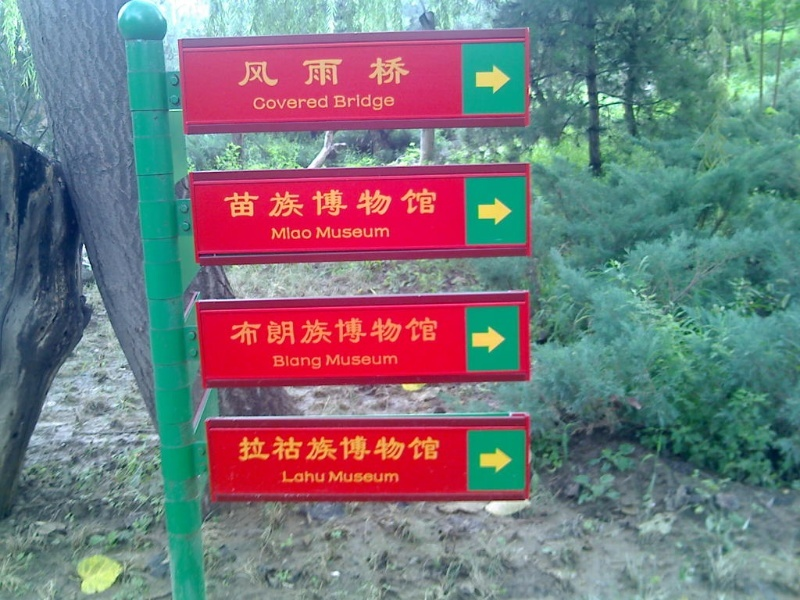text: (241, 54, 256, 88), (257, 54, 272, 88), (273, 54, 288, 88), (289, 54, 304, 88), (305, 54, 320, 88), (321, 54, 336, 88), (337, 54, 352, 88), (353, 54, 368, 88), (369, 54, 384, 88), (385, 54, 400, 88), (225, 188, 240, 219), (241, 188, 256, 219), (257, 188, 272, 219), (273, 188, 288, 219), (289, 188, 304, 219), (305, 188, 320, 219), (321, 188, 336, 219), (337, 188, 352, 219), (353, 188, 368, 219), (369, 188, 384, 219), (385, 188, 400, 219), (401, 188, 416, 219), (417, 188, 432, 219), (241, 434, 256, 464), (257, 434, 272, 464), (273, 434, 288, 464), (289, 434, 304, 464), (305, 434, 320, 464), (321, 434, 336, 464), (337, 434, 352, 464), (353, 434, 368, 464), (369, 434, 384, 464), (385, 434, 400, 464), (401, 434, 416, 464), (417, 434, 432, 464), (241, 318, 256, 347), (257, 318, 272, 347), (273, 318, 288, 347), (289, 318, 304, 347), (305, 318, 320, 347), (321, 318, 336, 347), (337, 318, 352, 347), (353, 318, 368, 347), (369, 318, 384, 347), (385, 318, 400, 347), (401, 318, 416, 347), (417, 318, 432, 347), (226, 318, 240, 347), (401, 54, 412, 88), (433, 434, 444, 464), (433, 318, 443, 347), (257, 93, 272, 112), (273, 93, 288, 112), (289, 93, 304, 112), (305, 93, 320, 112), (273, 226, 288, 244), (289, 226, 304, 244), (273, 354, 288, 372), (289, 354, 304, 372), (305, 354, 320, 372), (321, 225, 336, 243), (337, 225, 352, 243), (353, 225, 368, 243), (369, 225, 384, 243), (337, 94, 352, 111), (353, 94, 368, 111), (369, 94, 384, 111), (289, 468, 304, 484), (305, 468, 320, 484), (337, 470, 352, 484), (353, 470, 368, 484), (369, 470, 384, 484), (385, 470, 400, 484), (385, 354, 401, 367), (385, 94, 397, 111), (337, 354, 352, 367), (353, 354, 368, 367), (369, 354, 384, 367), (385, 225, 394, 243), (433, 188, 438, 219), (321, 93, 329, 112), (326, 354, 336, 367), (305, 226, 312, 244), (327, 470, 336, 484), (220, 188, 224, 219), (281, 468, 288, 484), (237, 54, 240, 88), (251, 93, 256, 112), (237, 434, 240, 464), (315, 225, 320, 243), (321, 468, 326, 484), (333, 94, 336, 111), (271, 226, 272, 244), (321, 354, 322, 372)
